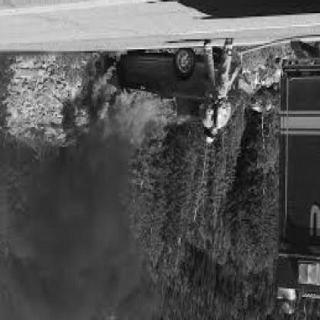Fire: (81, 49, 175, 152)
Smoke: (4, 136, 143, 318)
other: (202, 134, 214, 147)
